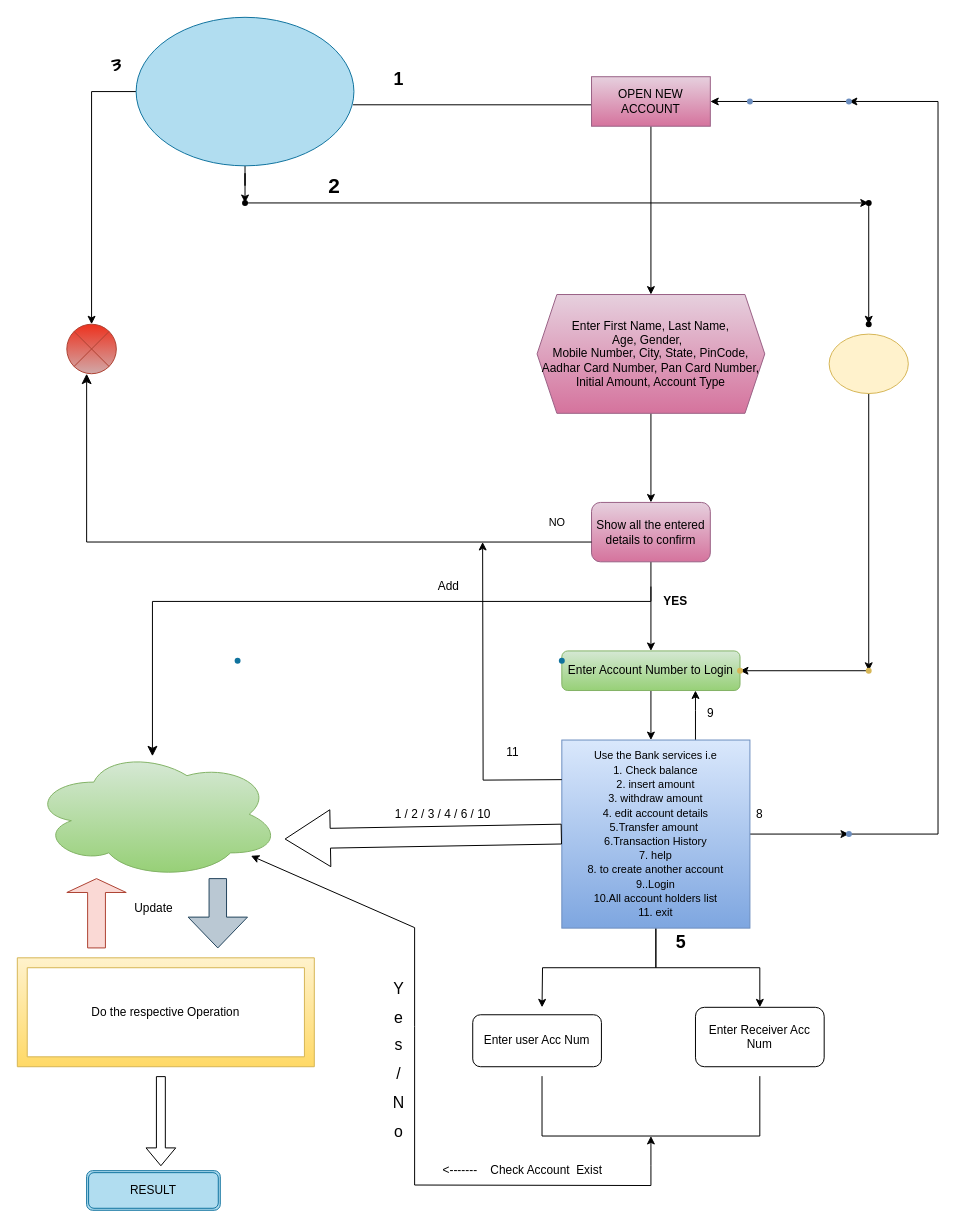
Some shapes in this 963 by 1228 pixel diagram are drawn without their labels. Here are the shapes that lost their labels. From the top down, the centre of each, then its label:
[244,91]: WELCOME TO TEZO BANK
[91,348]: Exit
[868,363]: LOGIN
[155,814]: Add all entered details inside the list
